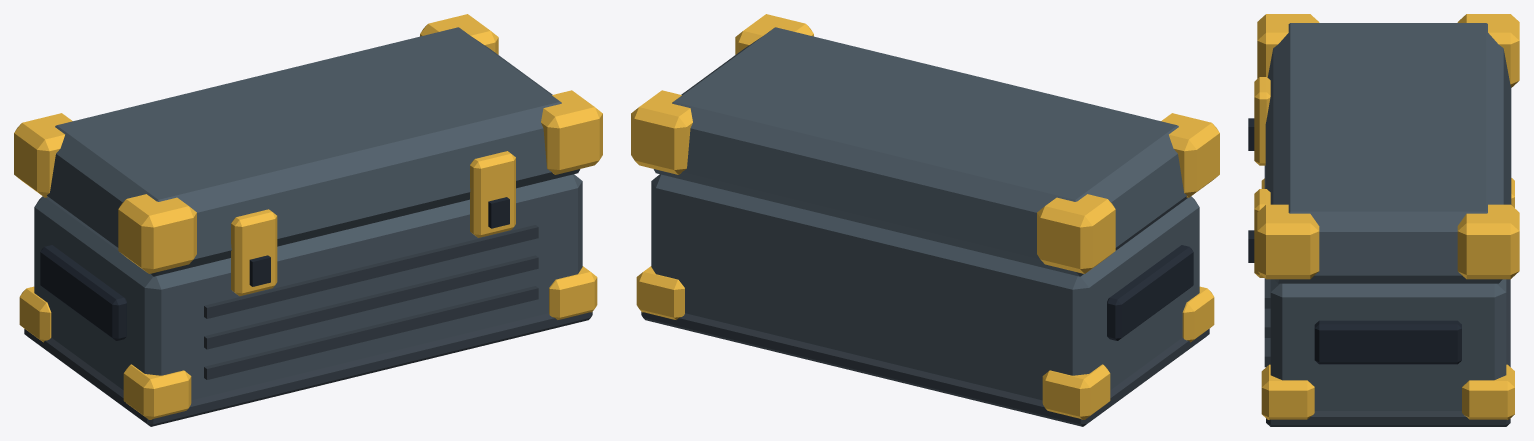
File: Prop_SteelChest.fbx
3 views of the same model, side by side, from view 1: azimuth 30°, elevation 25°; view 2: azimuth 150°, elevation 25°; view 3: azimuth 270°, elevation 25° (orthographic). The views are drawn at different scales.
Parts seen in each view (by area): view 1: Lid, Frame, Amber_Metal, FrameDark, Slate; view 2: Lid, Frame, Amber_Metal, FrameDark, Slate; view 3: Lid, Frame, Amber_Metal, Slate, FrameDark.
Boxes of the visible parts, x1,y1,x2,y2 form: Lid: (46, 27, 580, 276); Frame: (34, 174, 582, 400); Amber_Metal: (14, 14, 602, 419); FrameDark: (24, 225, 592, 426); Slate: (40, 197, 509, 340); Lid: (653, 27, 1187, 276); Frame: (651, 174, 1199, 400); Amber_Metal: (631, 14, 1219, 419); FrameDark: (641, 312, 1209, 426); Slate: (1107, 245, 1193, 340); Lid: (1265, 23, 1511, 283); Frame: (1270, 279, 1506, 410); Amber_Metal: (1254, 14, 1519, 419); Slate: (1248, 118, 1461, 364); FrameDark: (1264, 165, 1510, 426).
Size of the model in its own units: 3.5 by 1.55 by 1.84.
